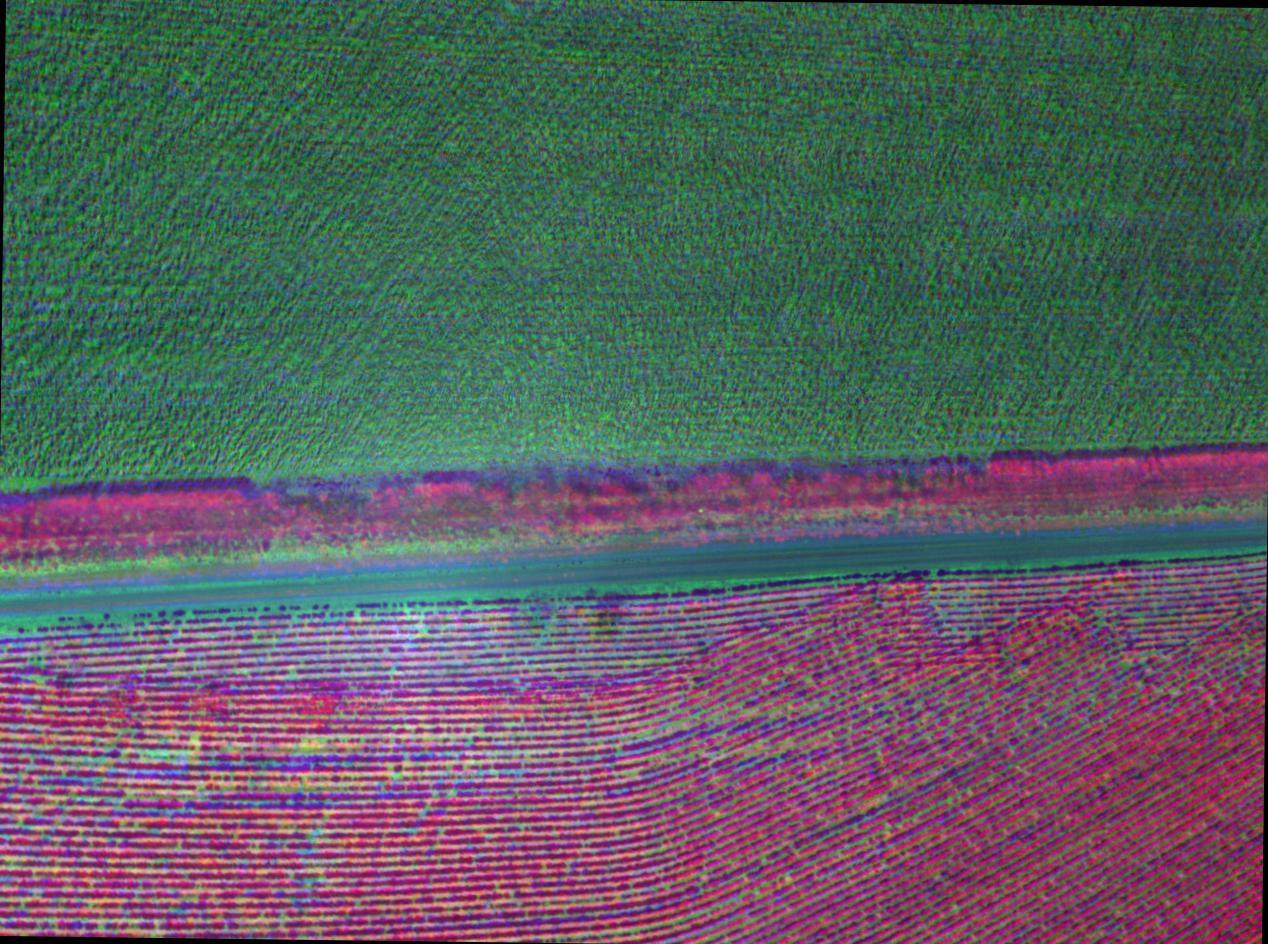dc: (285, 725, 402, 786), (100, 718, 209, 780)
